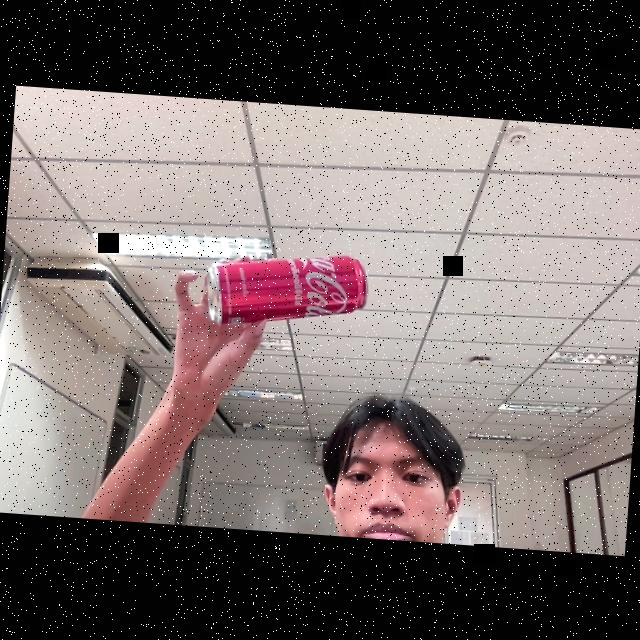can: (195, 232, 373, 344)
